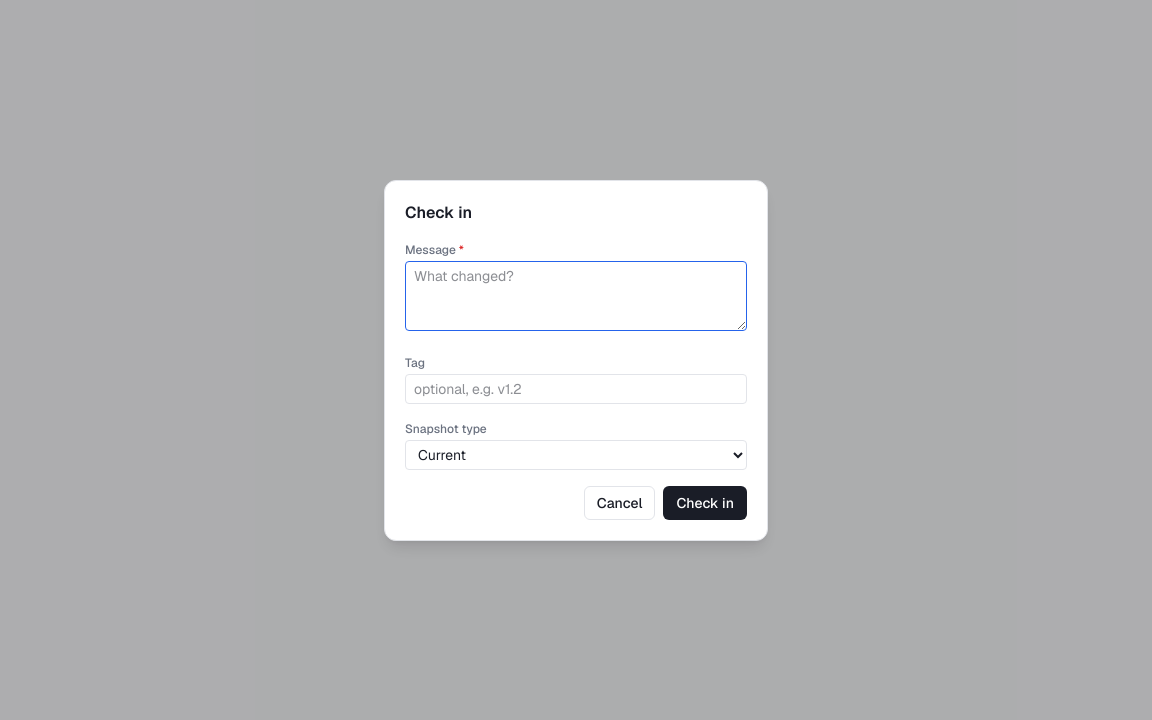
CheckInModal › requires a message before confirming
Click the button "Check in".
click(705, 502)  # box [663,486,747,520]
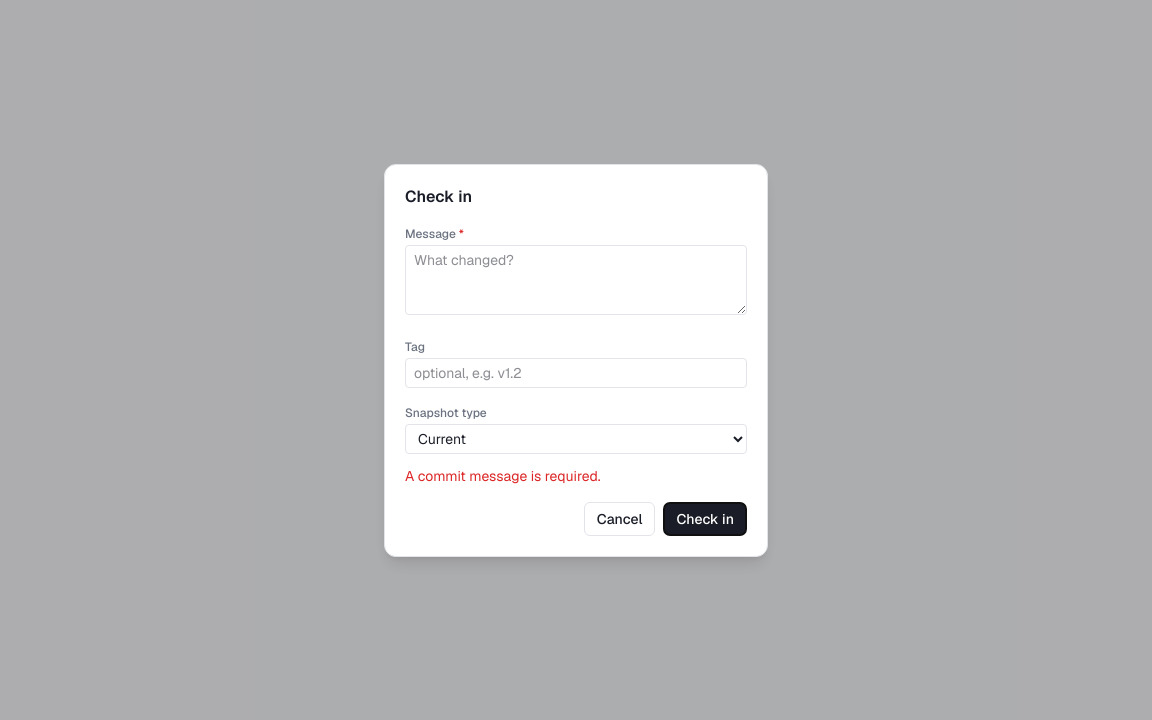
Check: the message "A commit message is required." is shown, box [405,466,600,484]
